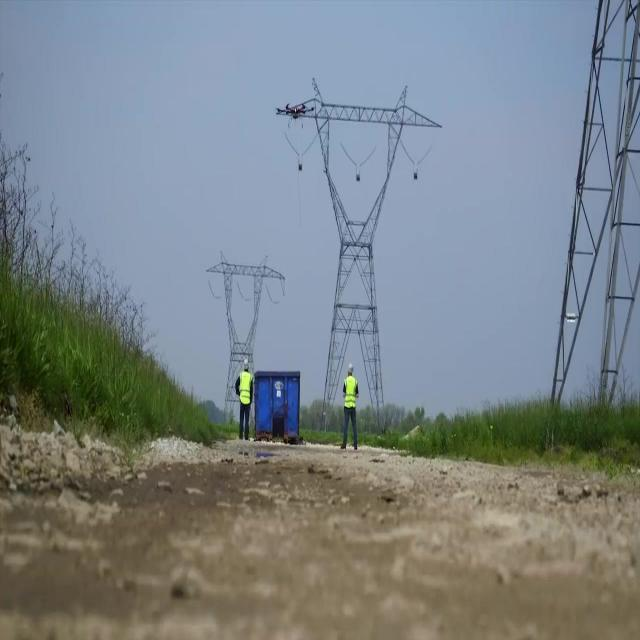UAV: (274, 101, 316, 129)
